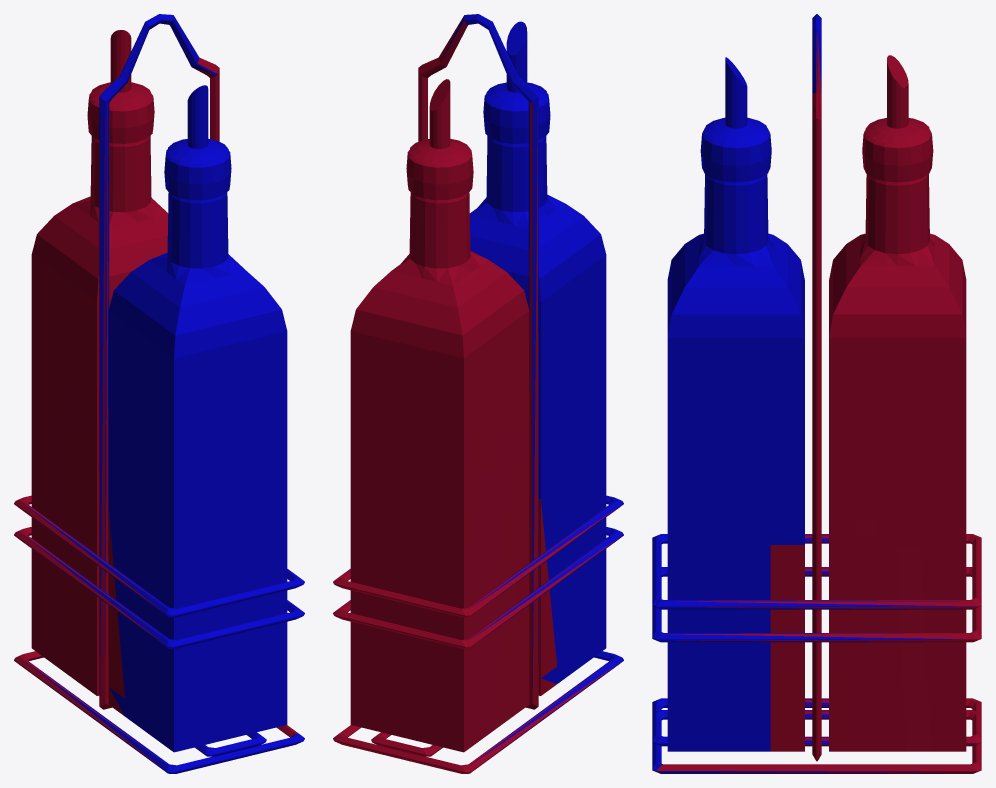
File: oilservers.dae
The picture shows the model from 3 angles, left to right: view 1: azimuth 30°, elevation 25°; view 2: azimuth 150°, elevation 25°; view 3: azimuth 270°, elevation 25°; orthographic projection. The views are drawn at different scales.
Visible parts, largest first — view 1: oilservers1; view 2: oilservers1; view 3: oilservers1.
Boxes of the visible parts, box(x1,y1,x2,y2) form: oilservers1: box(14, 14, 304, 773); oilservers1: box(333, 14, 623, 773); oilservers1: box(652, 14, 981, 773).
Size of the model in its own units: 0.0311 by 0.0614 by 0.1488.
Materials: 2 (2 with a texture image).
